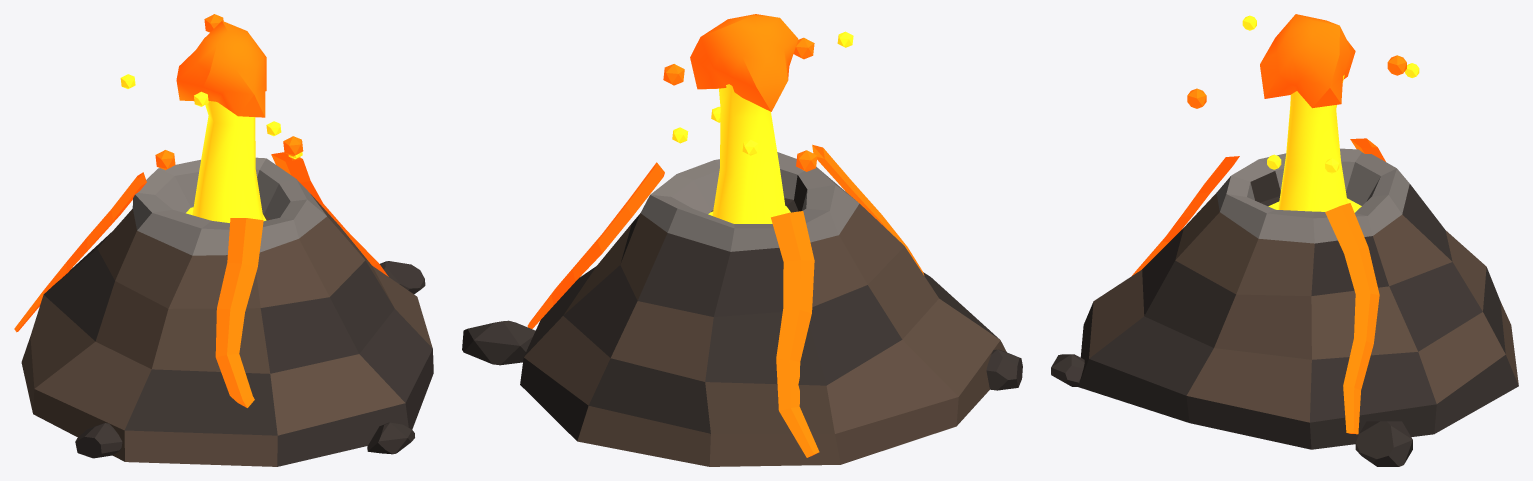
File: lava_geyser_cone.glb
3 renders of one model, left to right at view 1: azimuth 30°, elevation 25°; view 2: azimuth 150°, elevation 25°; view 3: azimuth 270°, elevation 25°, orthographic. The views are drawn at different scales.
Parts seen in each view (by area): view 1: lava_geyser_cone; view 2: lava_geyser_cone; view 3: lava_geyser_cone.
Part boxes in pixels (x1,y1,x2,y2): lava_geyser_cone: [14, 14, 433, 466]; lava_geyser_cone: [462, 14, 1022, 466]; lava_geyser_cone: [1051, 14, 1518, 466].
Size of the model in its own units: 2.07 by 1.56 by 1.94.
